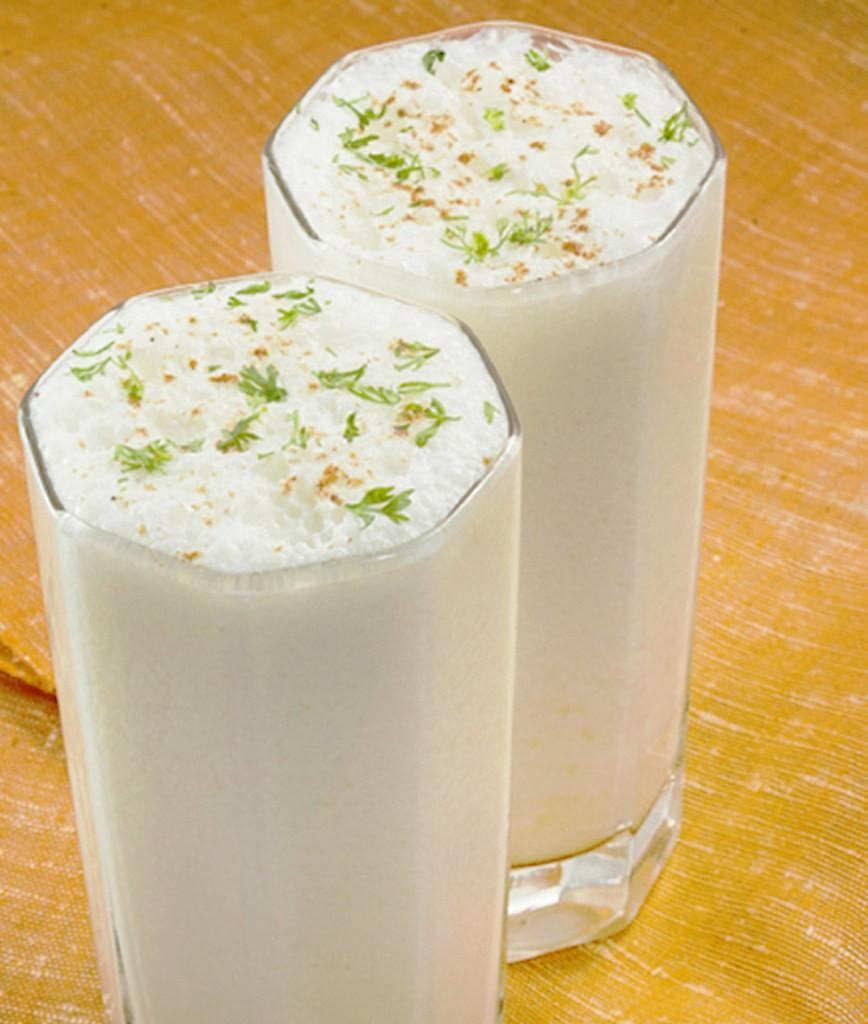Lassi: (262, 25, 726, 863), (32, 275, 521, 1024)
